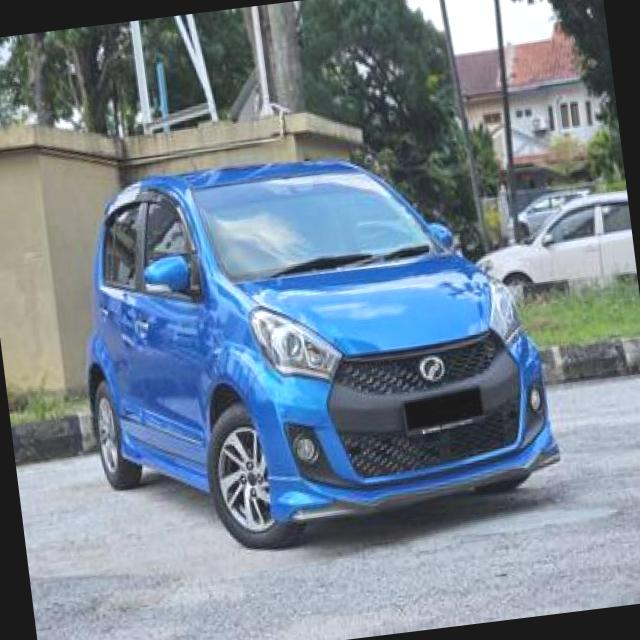PeroduaMyvi: (59, 126, 568, 570)
